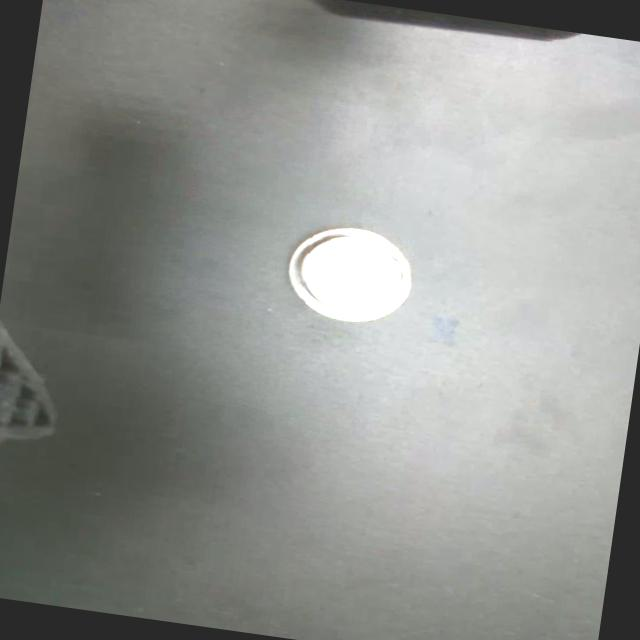sensor: (282, 218, 420, 331)
